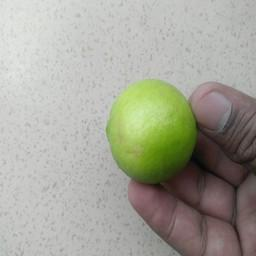Good_lime: (106, 77, 198, 185)
